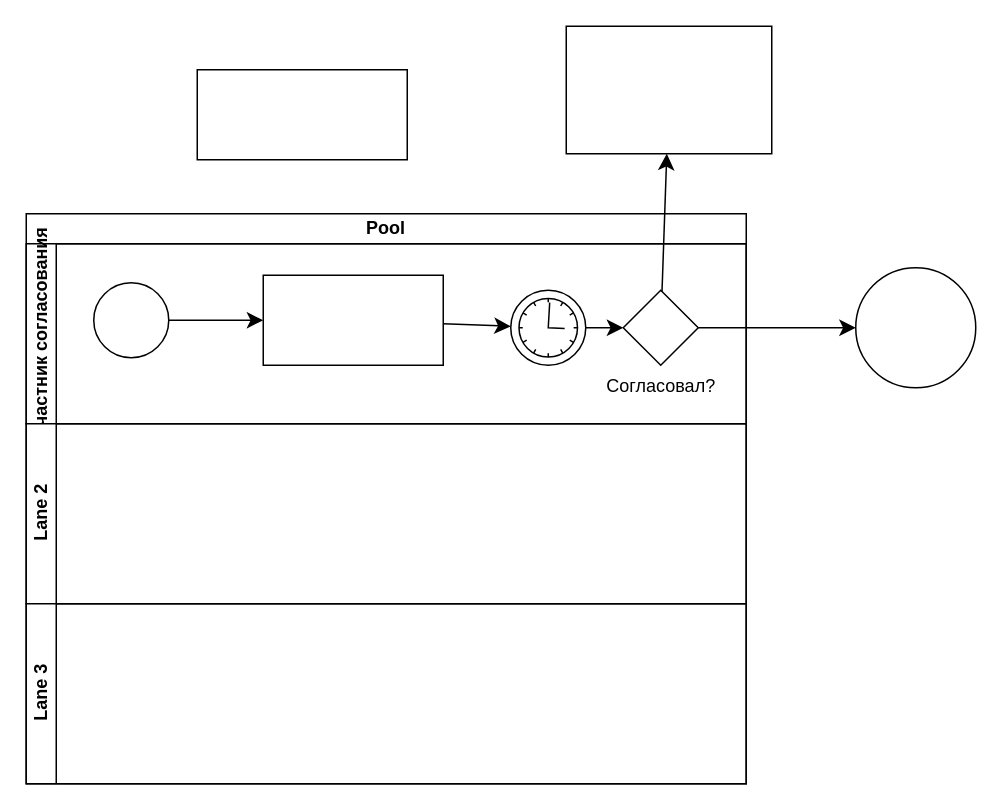
The diagram is 1002 pixels wide and 810 high, and some of its shapes have lost their labels. Each missing label, with the centre of its shape:
"Возврат в общую очередь (пул документов для выбора исполнителей)" goes at point 668,89.
"Решение (Документ)" goes at point 301,114.
"Согласование" goes at point 352,319.
